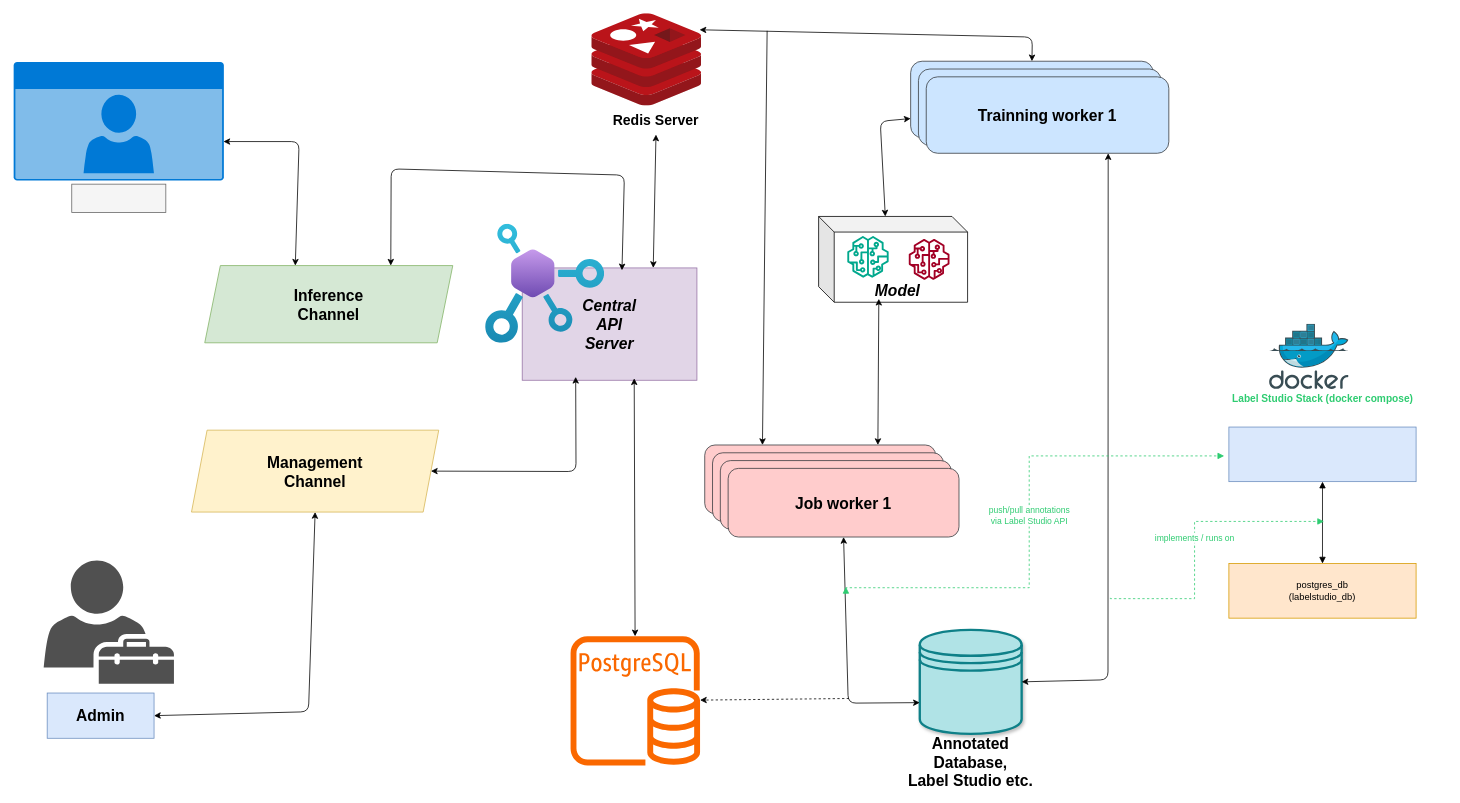
Some shapes in this 1460 by 803 pixel diagram are drawn without their labels. Each missing label, with the centre of its shape:
End User: [118,198]
label_studio (container, :8080): [1322,454]
User: [118,121]
